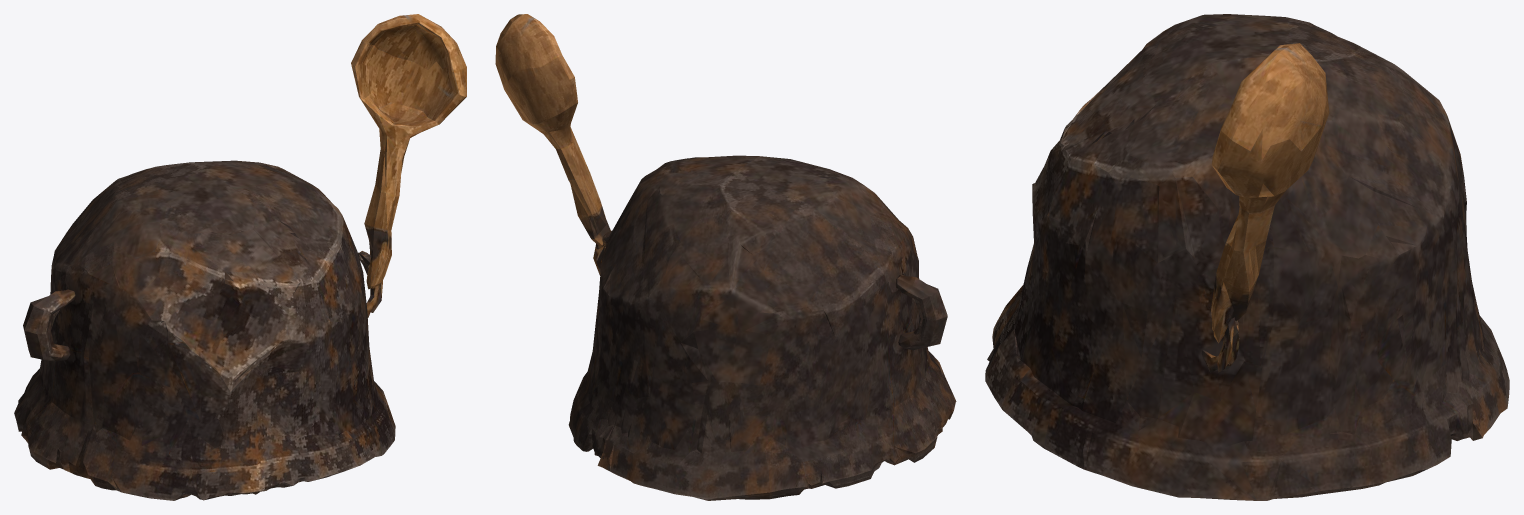
The model's file is HatCauldron.fbx.
3 renders of one model, left to right at view 1: azimuth 30°, elevation 25°; view 2: azimuth 150°, elevation 25°; view 3: azimuth 270°, elevation 25°, orthographic. The views are drawn at different scales.
Visible parts, largest first — view 1: output_unwrapped; view 2: output_unwrapped; view 3: output_unwrapped.
Part boxes in pixels (x1=…): output_unwrapped: x1=14, y1=14, x2=466, y2=500; output_unwrapped: x1=495, y1=14, x2=956, y2=500; output_unwrapped: x1=985, y1=14, x2=1509, y2=500.
Bounding box in the file's own units: 95.41 × 74.8 × 72.41.
Materials: 1 (1 with a texture image).
